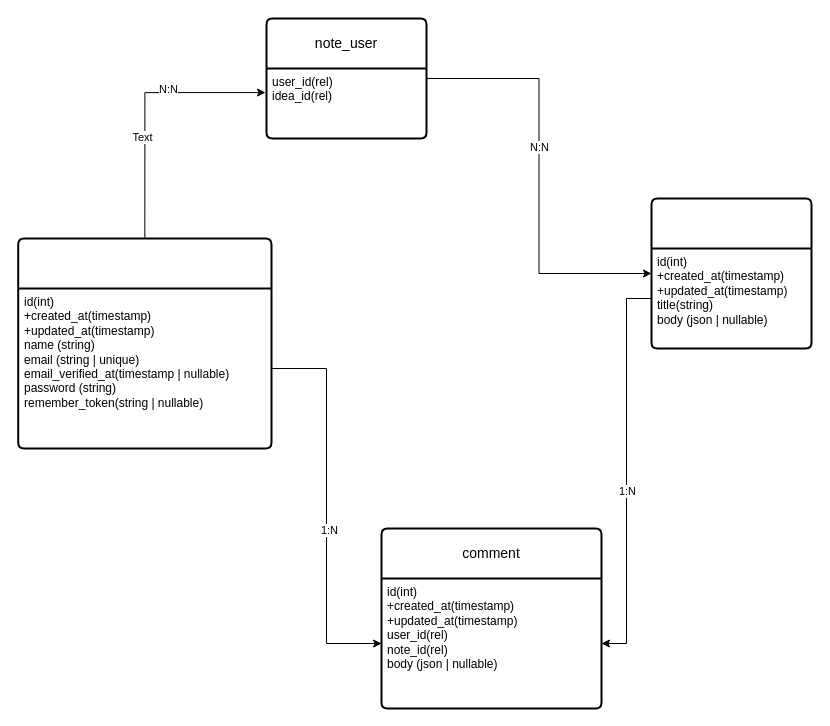
This 830x726 diagram has some shape labels left out. Each missing label, with the box of its shape:
notes: (650, 197, 812, 349)
users: (17, 237, 272, 449)
